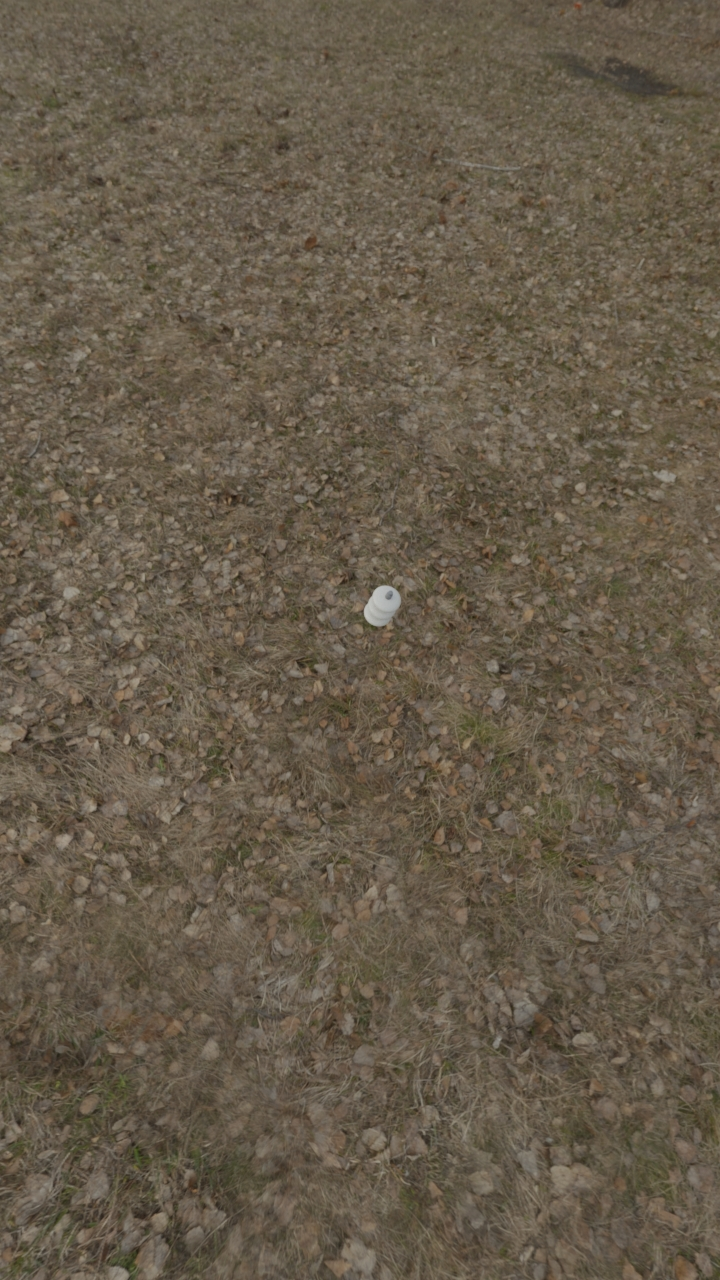ceramicinsulators: (364, 586, 401, 627)
